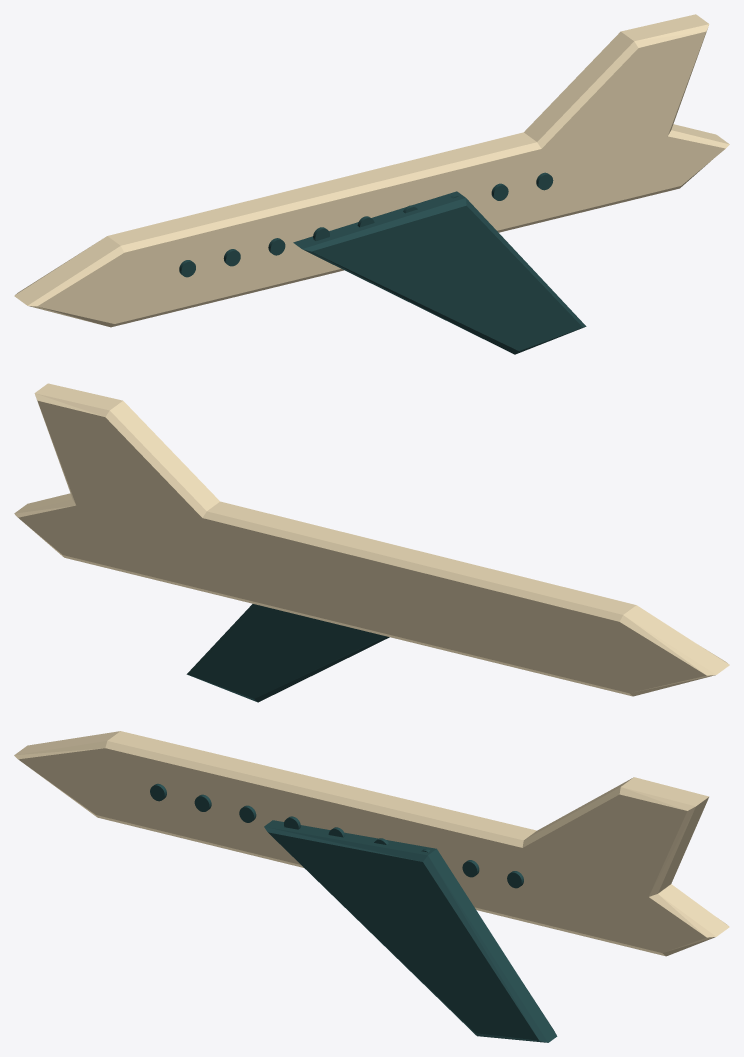
File: airplane.glb
The picture shows the model from 3 angles, top to bottom: view 1: azimuth 30°, elevation 25°; view 2: azimuth 150°, elevation 25°; view 3: azimuth 330°, elevation 25°; orthographic projection.
Visible parts, largest first — view 1: body, wing; view 2: body, wing; view 3: body, wing.
Boxes of the visible parts, <box> form: body: <box>14,14,729,327</box>; wing: <box>293,191,586,354</box>; body: <box>14,383,729,696</box>; wing: <box>186,604,389,702</box>; body: <box>14,731,729,956</box>; wing: <box>264,820,557,1042</box>.
Bounding box in the file's own units: 3.62 × 1.34 × 0.28.
